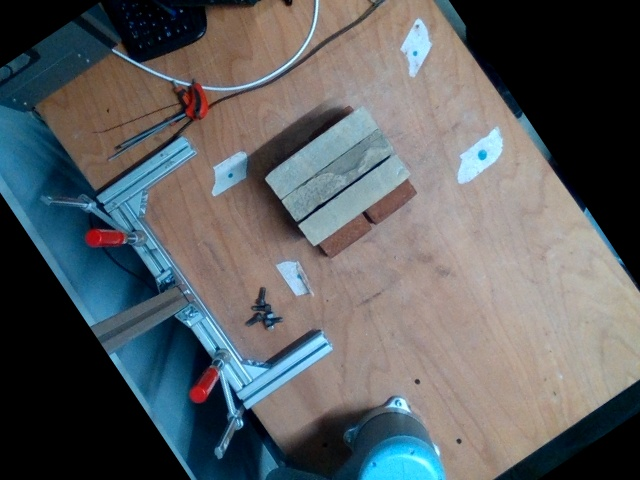brick-side: (265, 103, 379, 199), (281, 126, 395, 222), (298, 151, 412, 246)
